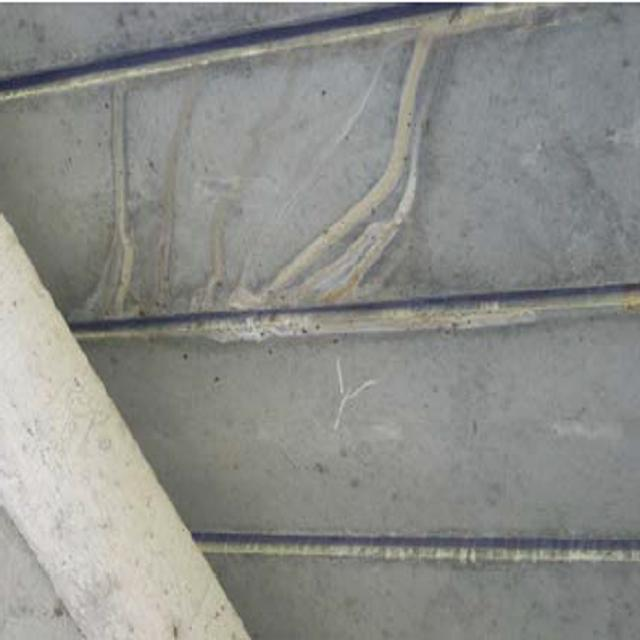freelime: (86, 255, 363, 338)
